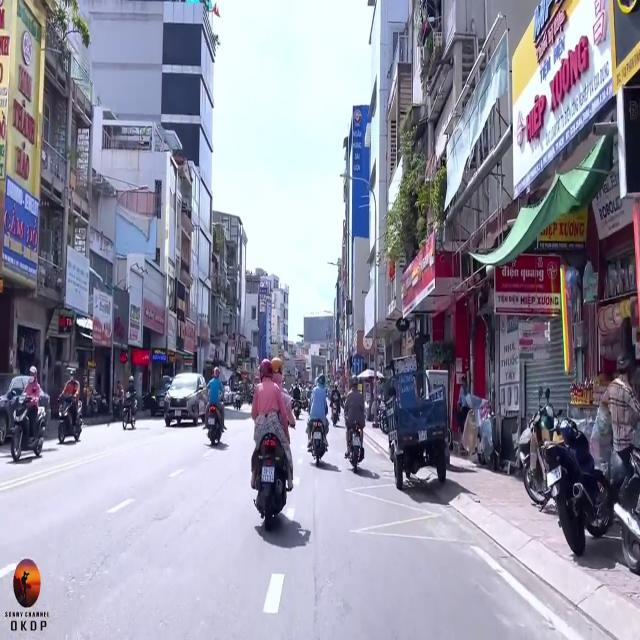bien_trang: (260, 467, 275, 484)
